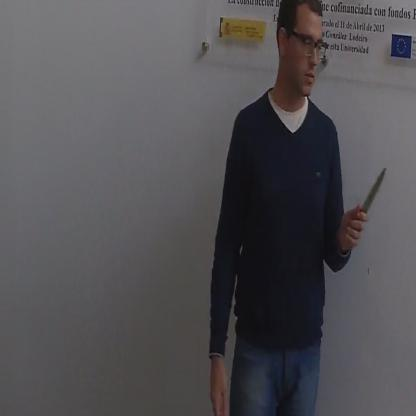knife: (345, 158, 391, 243)
